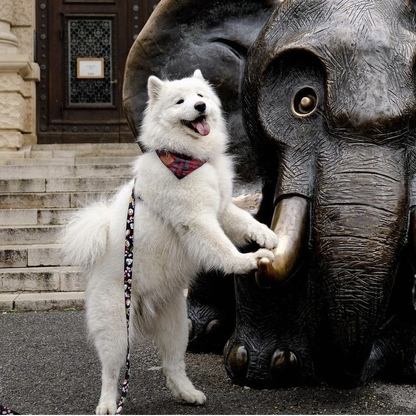samoyed: (56, 65, 283, 416)
